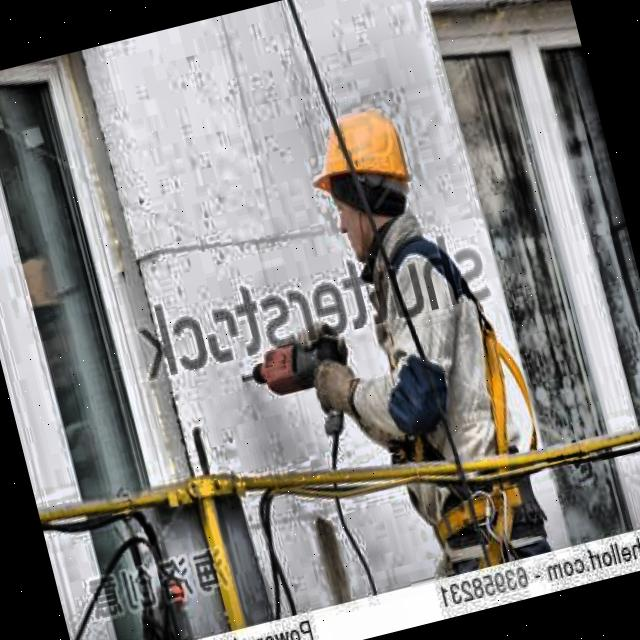helmet: (294, 82, 438, 286)
